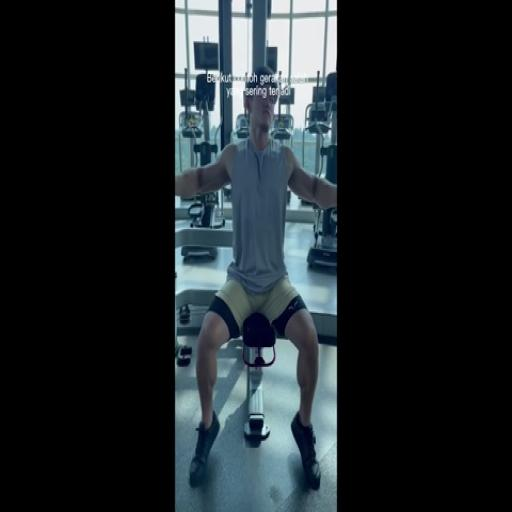exercise: (175, 64, 337, 494)
